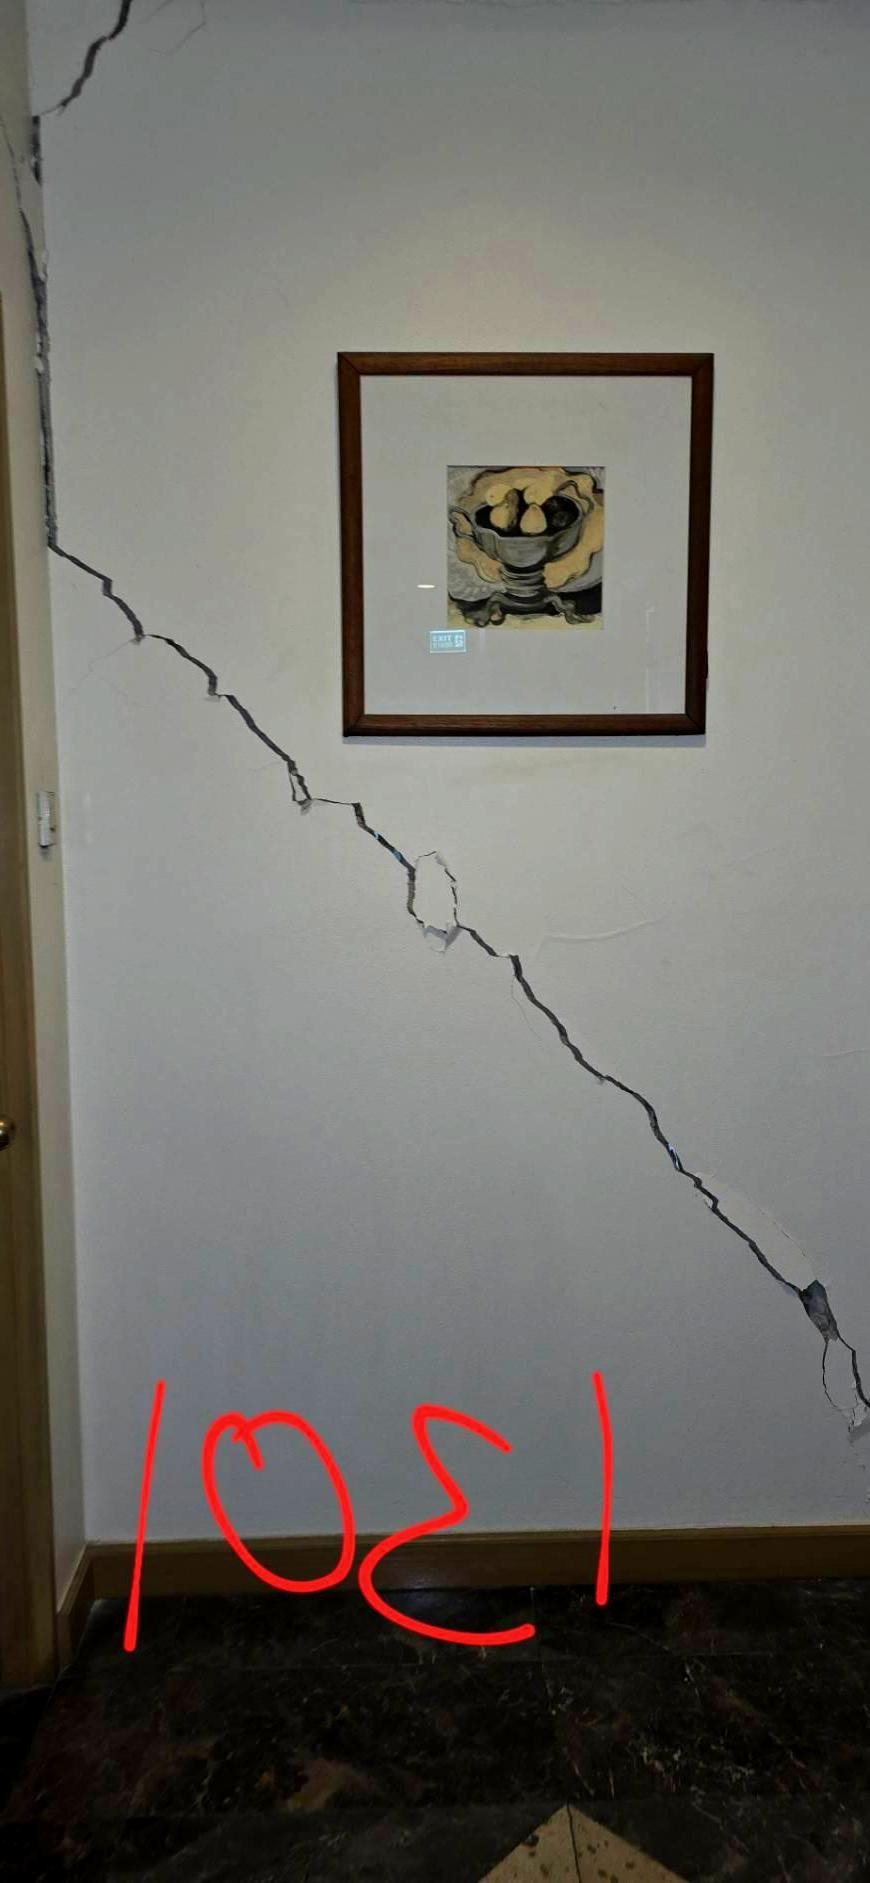High: (8, 5, 864, 1365)
